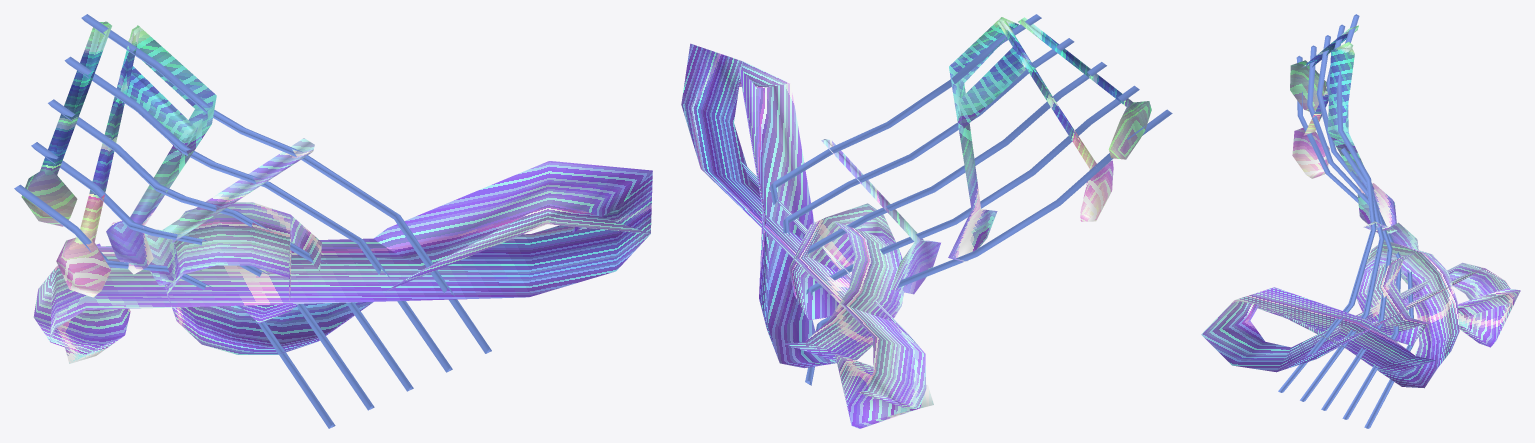
Rendered from ps2_save-icons_etudeprologue.glb.
3 views of the same model, side by side, from view 1: azimuth 30°, elevation 25°; view 2: azimuth 150°, elevation 25°; view 3: azimuth 270°, elevation 25° (orthographic). The views are drawn at different scales.
Parts seen in each view (by area): view 1: etude.ico; view 2: etude.ico; view 3: etude.ico.
Boxes of the visible parts, left/top/right/bottom form: etude.ico: left=14, top=14, right=652, bottom=428; etude.ico: left=681, top=14, right=1172, bottom=428; etude.ico: left=1201, top=14, right=1520, bottom=428.
Bounding box in the file's own units: 4.84 × 3.75 × 3.28.
1 material, 1 textured.
